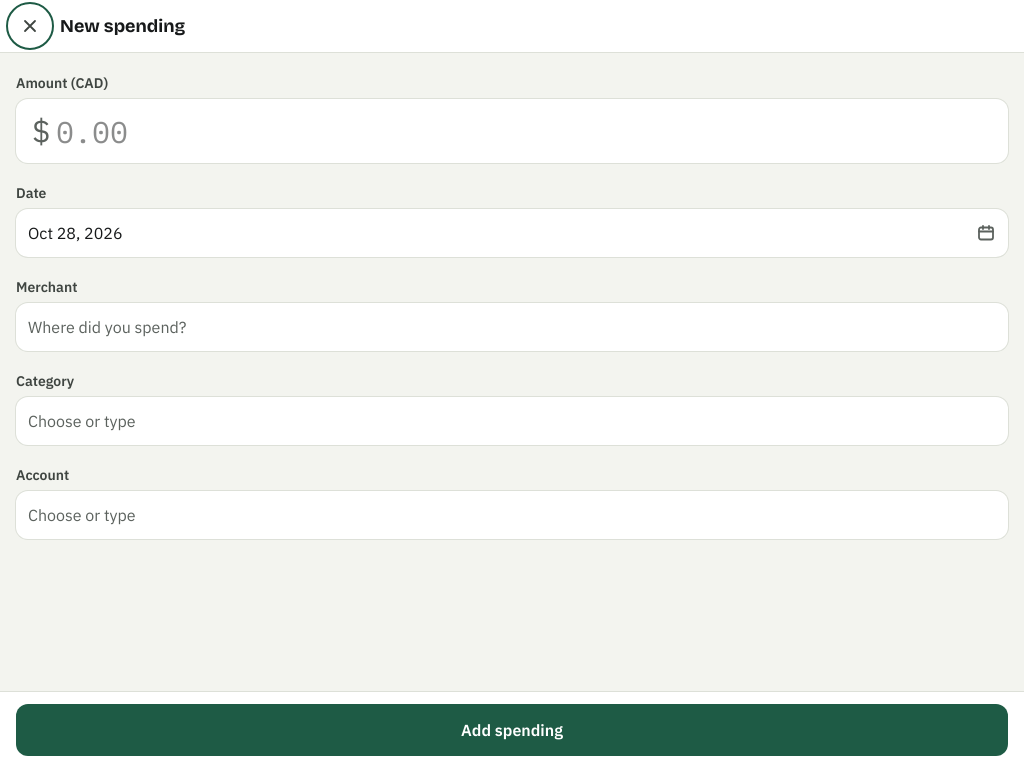
Test case: SpendingForm — add › shows the first problem in phone order, inline, and focuses it
This screenshot has width=1024, height=768.
Step 1. Click the button "Add spending" → (512, 730), box x1=16 y1=704 x2=1008 y2=756
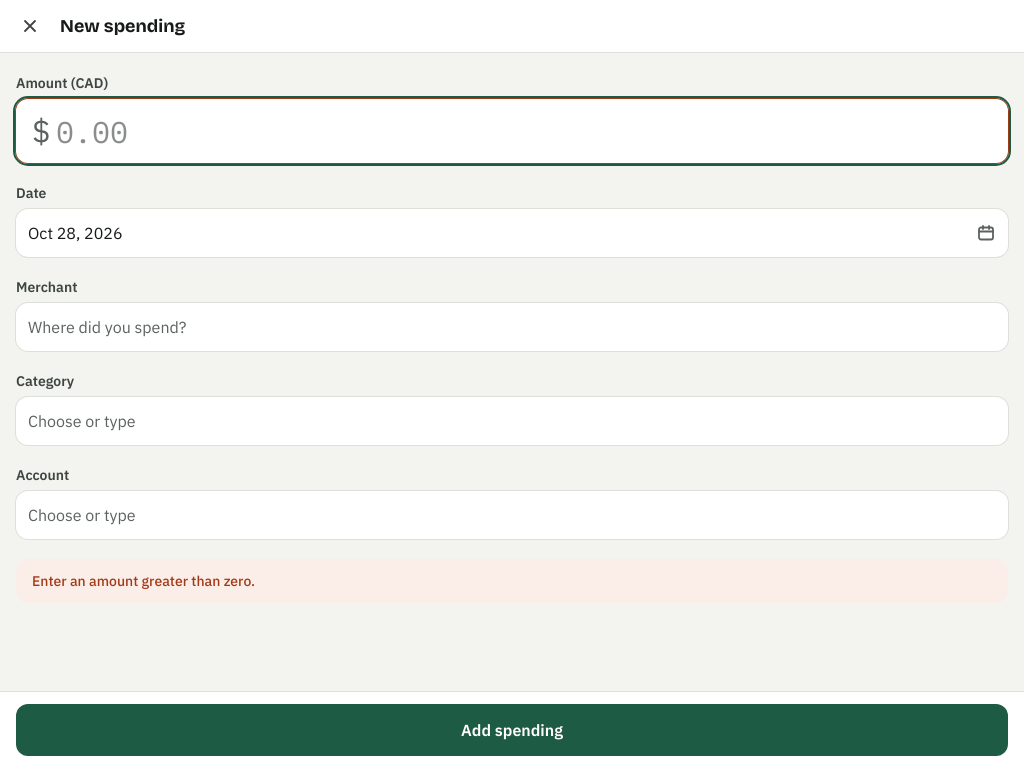
expect the message reads "Enter an amount greater than zero.": met, box x1=32 y1=572 x2=255 y2=590
Step 2. Type "12.40" into the field labelled "Amount (CAD)" → (512, 131), box x1=16 y1=99 x2=1008 y2=163
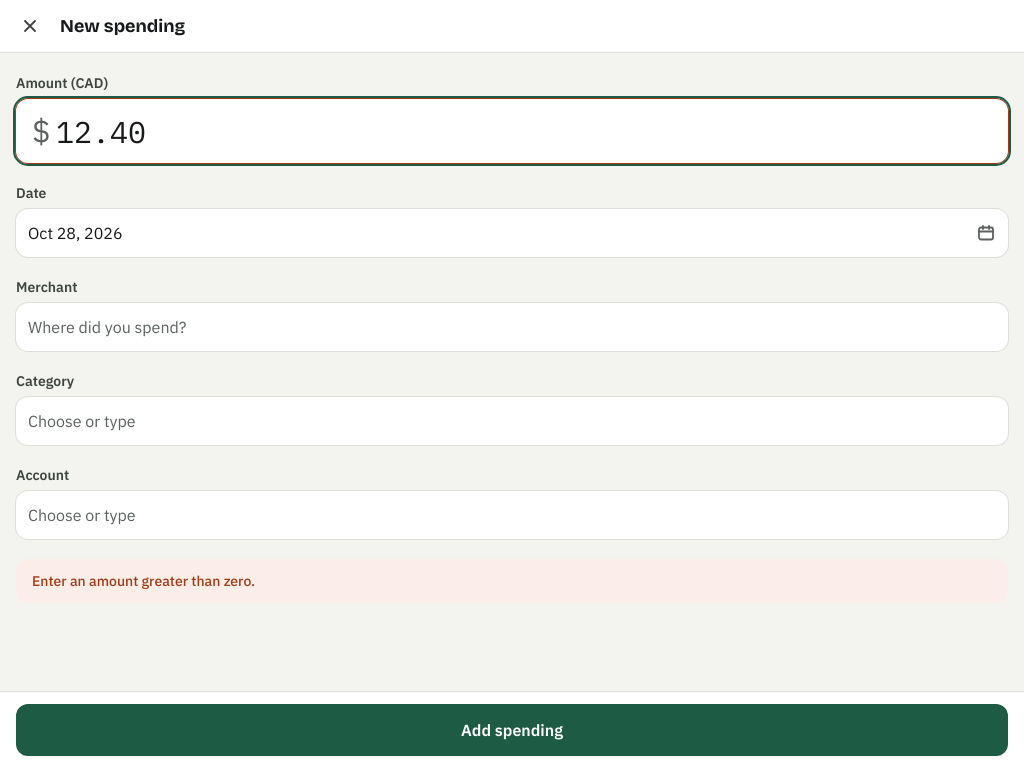
Step 3. Click the button "Add spending" → (512, 730), box x1=16 y1=704 x2=1008 y2=756
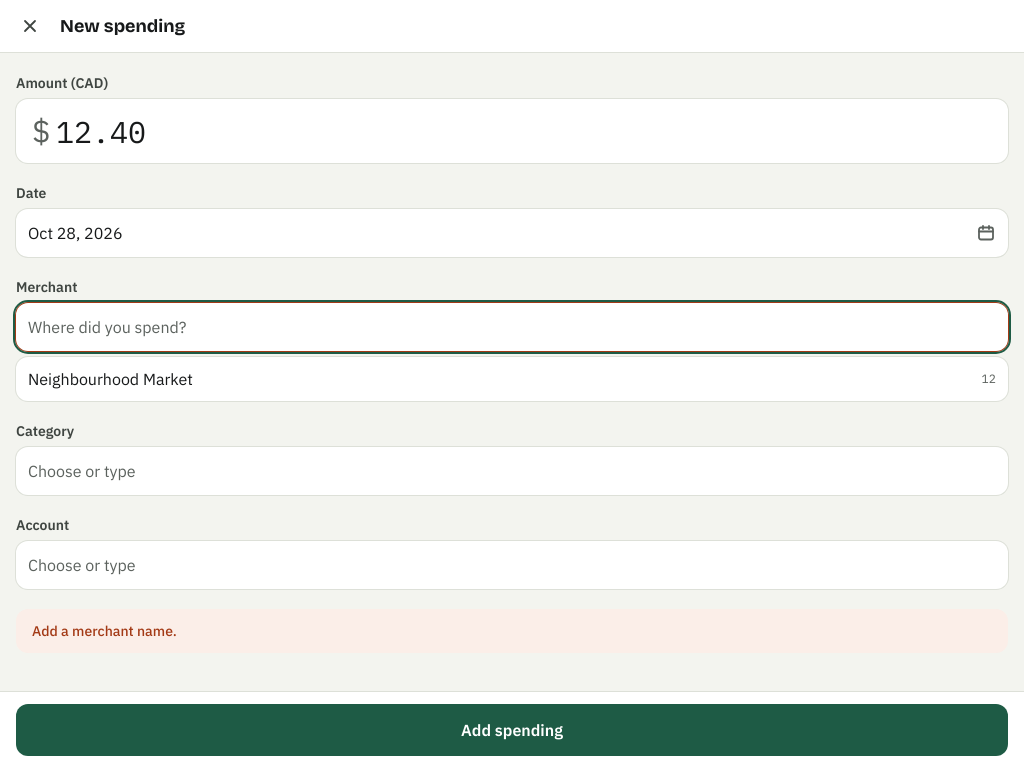
expect the message reads "Add a merchant name.": met, box x1=32 y1=622 x2=177 y2=640
